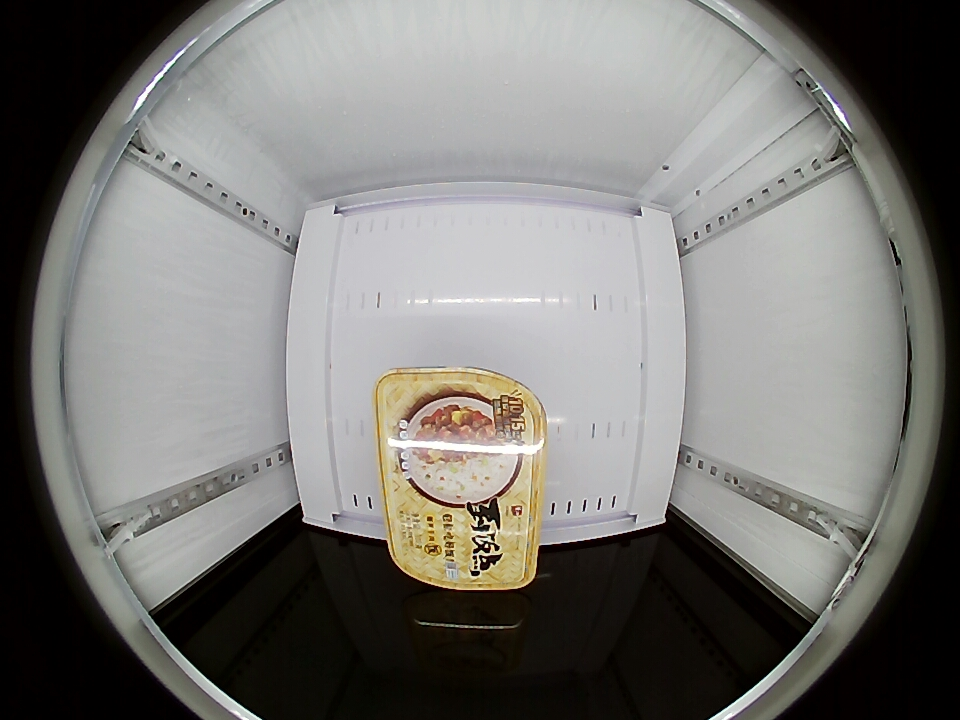daofandian2: (376, 365, 546, 591)
